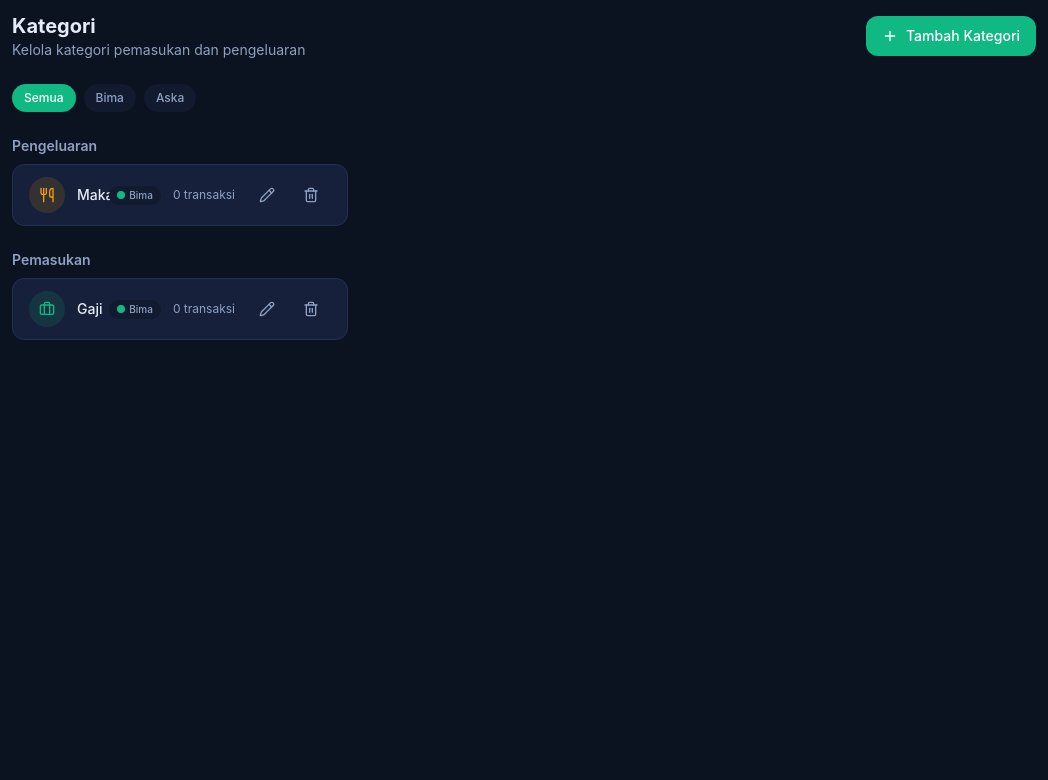
CategoriesPage › hides the Tambah Kategori button when filtering a foreign member
Expected: the text "Makanan" is shown, left=77, top=185, right=97, bottom=205
Expected: the button "Tambah Kategori" is shown, left=866, top=16, right=1036, bottom=56
Click the button "Aska" at [170, 98], box left=144, top=84, right=196, bottom=112
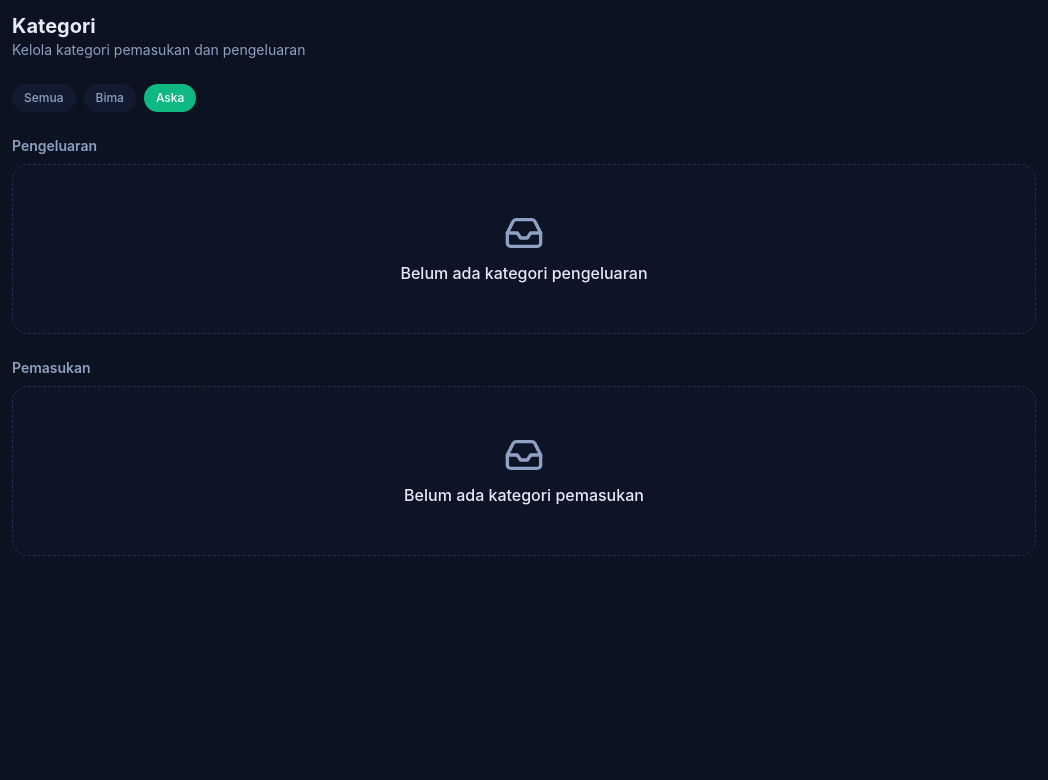
Now the button "Tambah Kategori" is gone
